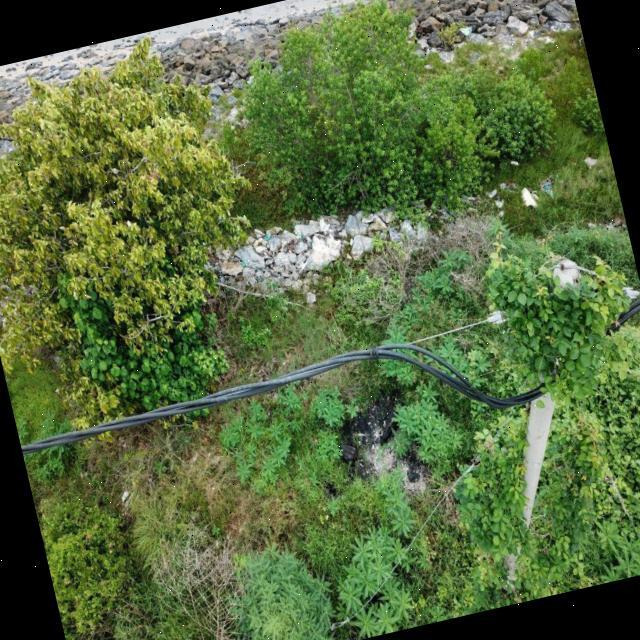critical vegetation: (462, 233, 640, 490)
